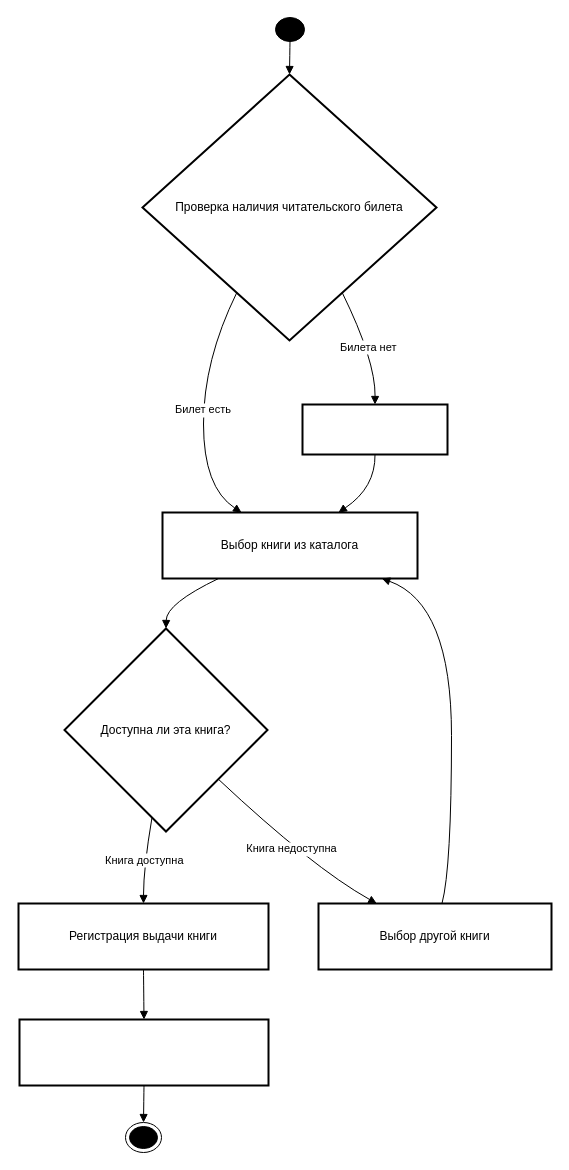
Image size: 569x1170. Some labels were removed from this diagram. The shapes that lost their labels are listed below. From the top down, each one's box as (x1, y1, x2, y2) in pixels, then its label:
(301, 403, 448, 455): Оформление билета
(18, 1018, 269, 1086): Читатель получает книгу
